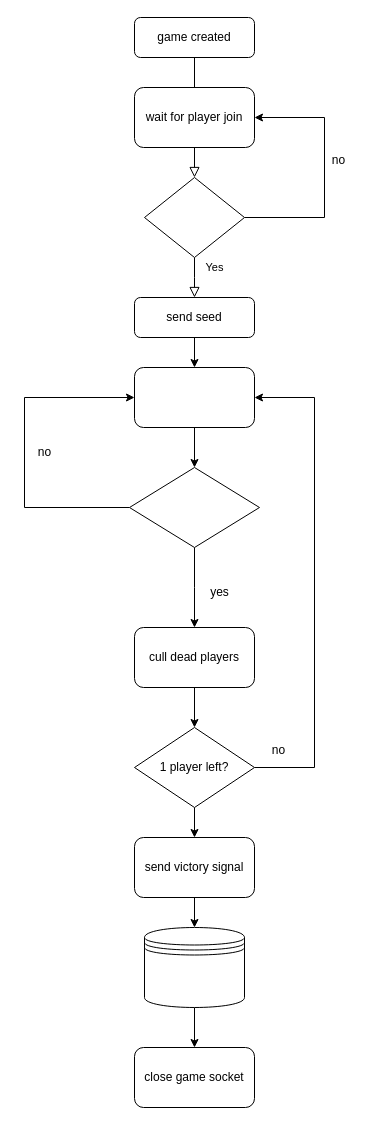
The diagram is 376 pixels wide and 1125 high, and some of its shapes have lost their labels. Each missing label, with the centre of its shape:
add victory to user: the point at 194,967
enough players?: the point at 194,217
handle player moves: the point at 194,397
timer ran out?: the point at 194,507
